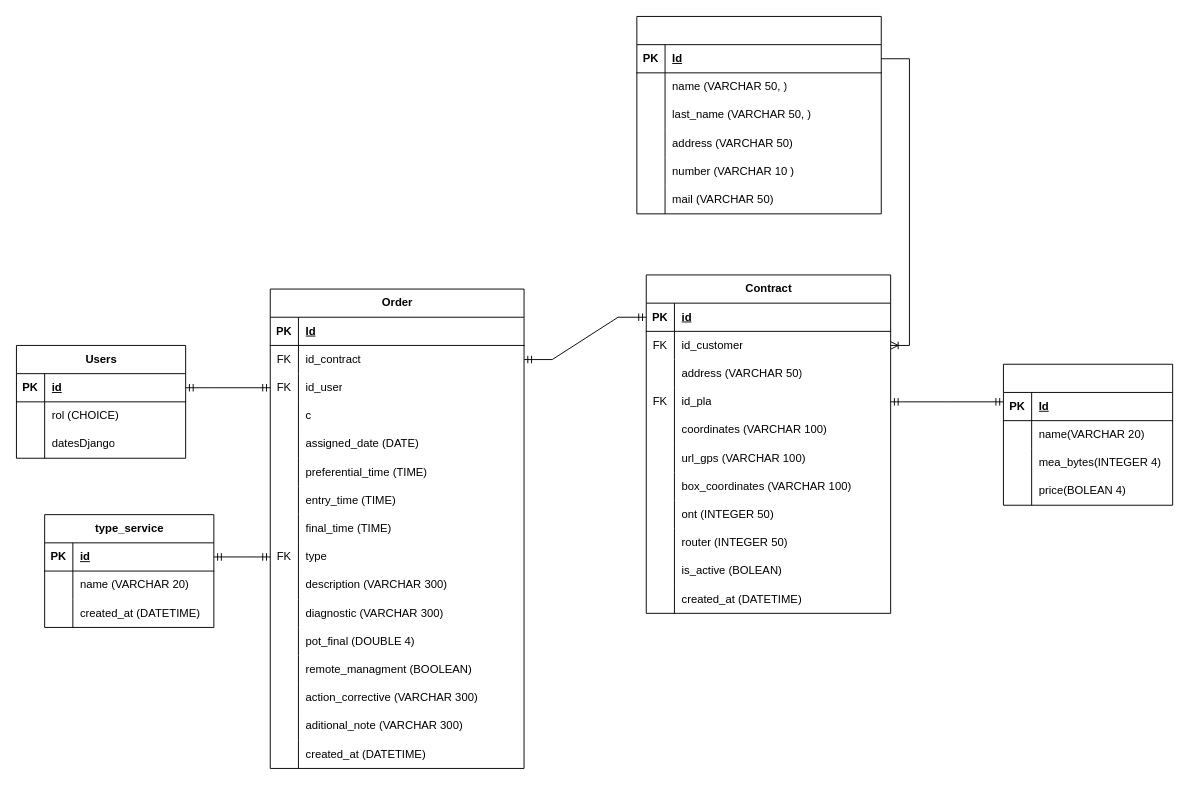
This 1189x785 diagram has some shape labels left out. Each missing label, with the box of its shape:
Customer: (636, 16, 881, 214)
Plan: (1003, 363, 1173, 505)
